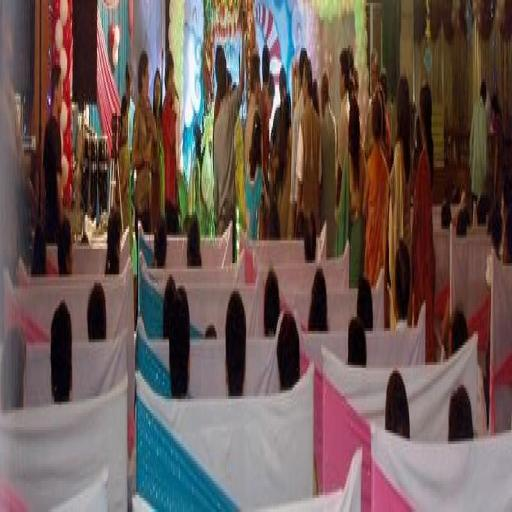person: (411, 85, 436, 362), (214, 46, 245, 234), (337, 100, 366, 288), (389, 77, 411, 291), (364, 94, 388, 285), (296, 60, 322, 226), (133, 51, 156, 231), (43, 66, 63, 243), (162, 54, 181, 234), (289, 49, 307, 237), (273, 68, 291, 240), (321, 74, 336, 257), (169, 289, 189, 398), (0, 329, 26, 412), (246, 114, 263, 240), (51, 303, 72, 404), (470, 83, 488, 200), (226, 292, 246, 396), (337, 49, 350, 203), (245, 51, 261, 175), (151, 68, 163, 229), (116, 97, 130, 229), (277, 312, 300, 390), (385, 371, 409, 438), (260, 46, 272, 175), (365, 49, 379, 158), (448, 385, 474, 441), (394, 241, 410, 330), (379, 68, 392, 166), (308, 269, 327, 333), (88, 283, 106, 342), (264, 269, 279, 336), (124, 63, 135, 152), (106, 210, 121, 274), (348, 317, 366, 367), (357, 278, 373, 330), (163, 275, 176, 339), (58, 218, 72, 277), (451, 309, 468, 356), (31, 224, 46, 277), (489, 204, 503, 260), (187, 215, 201, 268), (476, 368, 486, 435), (304, 215, 316, 263), (154, 221, 166, 268), (266, 201, 280, 240), (456, 207, 470, 237), (477, 196, 490, 226), (504, 210, 511, 265), (441, 199, 451, 229), (312, 80, 320, 115), (296, 213, 305, 240), (205, 326, 216, 339)
